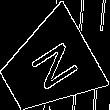N_SW: (19, 37, 78, 97)
